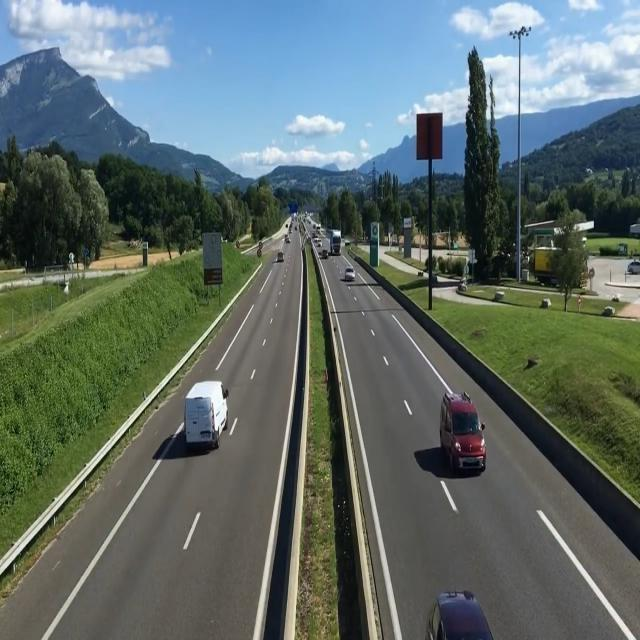Car: (345, 265, 356, 282)
Truck: (330, 229, 342, 256)
Van: (439, 393, 488, 474), (183, 378, 232, 447)
